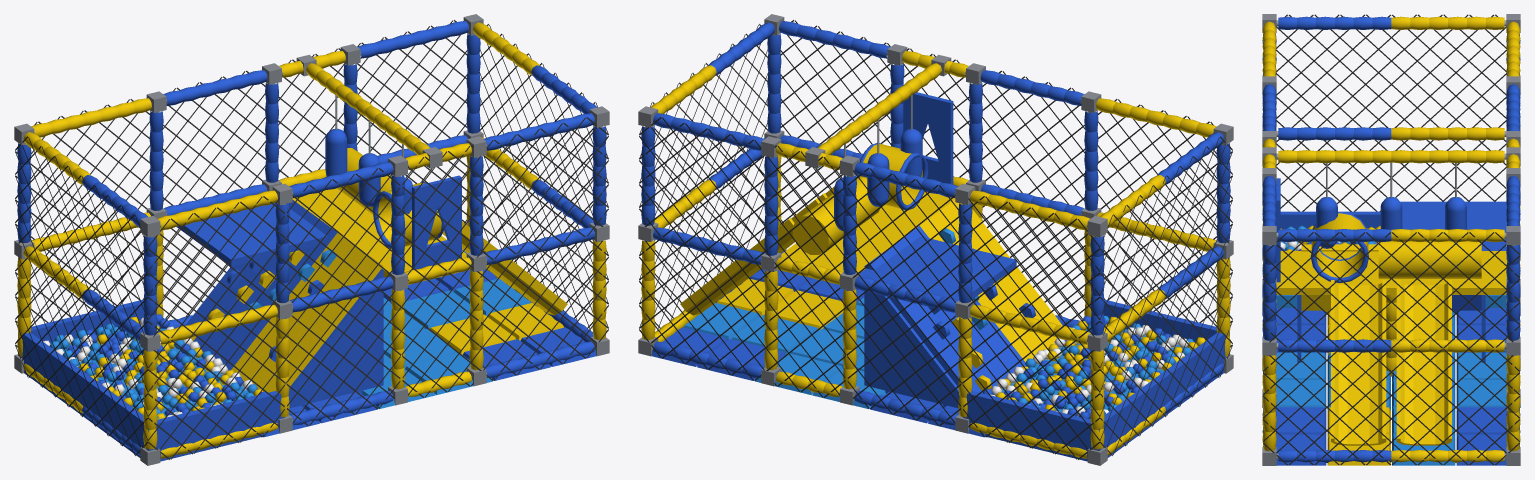
Rendered from mini.glb.
3 renders of one model, left to right at view 1: azimuth 30°, elevation 25°; view 2: azimuth 150°, elevation 25°; view 3: azimuth 270°, elevation 25°, orthographic. The views are drawn at different scales.
Parts seen in each view (by area): view 1: isotubo, rede, plataforma, acolchoado, piso, bolinhas, metal, plastico; view 2: isotubo, rede, plataforma, acolchoado, piso, bolinhas, metal, plastico; view 3: isotubo, rede, plastico, piso, plataforma, acolchoado, metal, bolinhas.
Part boxes in pixels (x1=…): isotubo: x1=17, y1=21, x2=606, y2=458; rede: x1=15, y1=20, x2=608, y2=459; plataforma: x1=176, y1=175, x2=469, y2=408; acolchoado: x1=18, y1=128, x2=443, y2=461; piso: x1=262, y1=269, x2=596, y2=437; bolinhas: x1=43, y1=314, x2=265, y2=419; metal: x1=14, y1=14, x2=609, y2=465; plastico: x1=191, y1=221, x2=567, y2=362; isotubo: x1=641, y1=21, x2=1230, y2=458; rede: x1=639, y1=20, x2=1232, y2=459; plataforma: x1=778, y1=92, x2=1062, y2=408; acolchoado: x1=792, y1=128, x2=1229, y2=461; piso: x1=651, y1=269, x2=985, y2=437; bolinhas: x1=983, y1=315, x2=1205, y2=419; metal: x1=638, y1=14, x2=1233, y2=465; plastico: x1=680, y1=186, x2=1036, y2=391; isotubo: x1=1262, y1=16, x2=1520, y2=462; rede: x1=1263, y1=14, x2=1519, y2=465; plastico: x1=1331, y1=280, x2=1451, y2=445; piso: x1=1263, y1=308, x2=1519, y2=465; plataforma: x1=1275, y1=178, x2=1507, y2=362; acolchoado: x1=1276, y1=197, x2=1506, y2=307; metal: x1=1262, y1=14, x2=1520, y2=465; bolinhas: x1=1280, y1=225, x2=1380, y2=250.
Size of the model in its own units: 0.4 by 0.2 by 0.2.
Materials: 8 (7 with a texture image).
